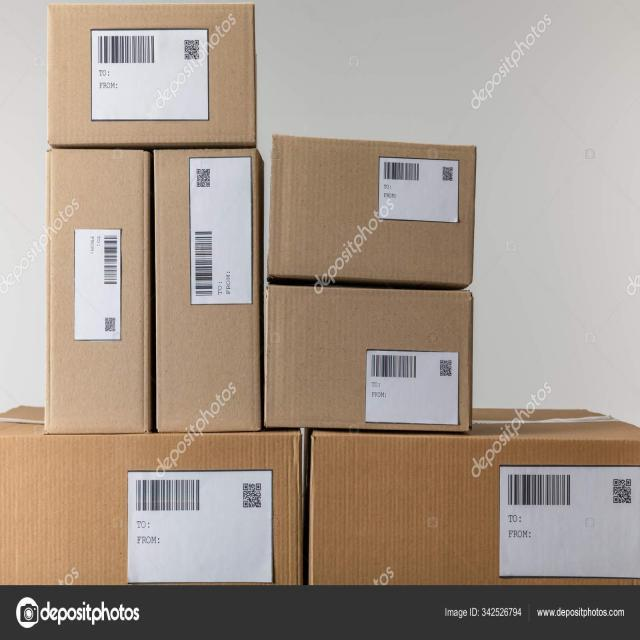box: (306, 398, 640, 586), (0, 406, 310, 590), (264, 123, 476, 294), (260, 282, 482, 444), (42, 142, 154, 438), (42, 0, 256, 152), (154, 152, 263, 448)
